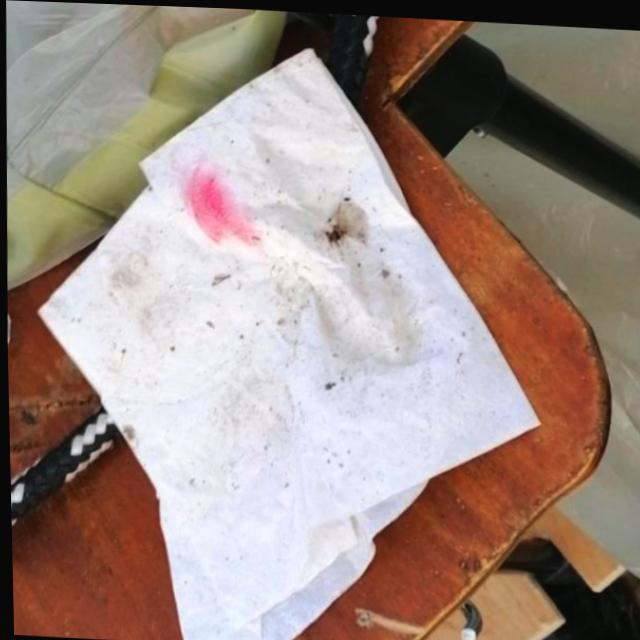Paper: (19, 28, 552, 640)
